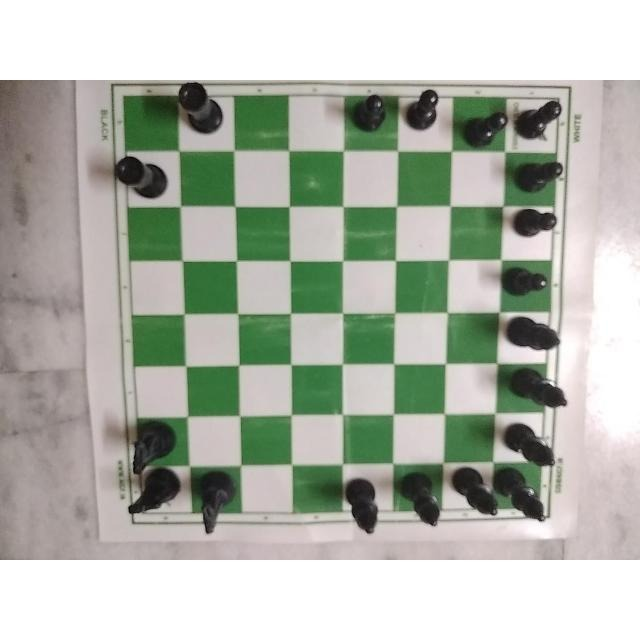black-bishop: (451, 459, 511, 529), (488, 464, 554, 527), (499, 426, 559, 478), (397, 474, 445, 535), (342, 475, 387, 539), (513, 366, 571, 414), (505, 316, 565, 355)
black-knight: (124, 418, 180, 480), (126, 464, 188, 519), (193, 467, 233, 537)
black-pawn: (458, 99, 513, 155), (344, 94, 404, 145), (400, 86, 441, 144), (515, 151, 569, 193), (517, 98, 562, 146), (502, 262, 554, 300), (507, 207, 563, 239)
black-rook: (171, 80, 235, 131), (109, 152, 167, 208)
